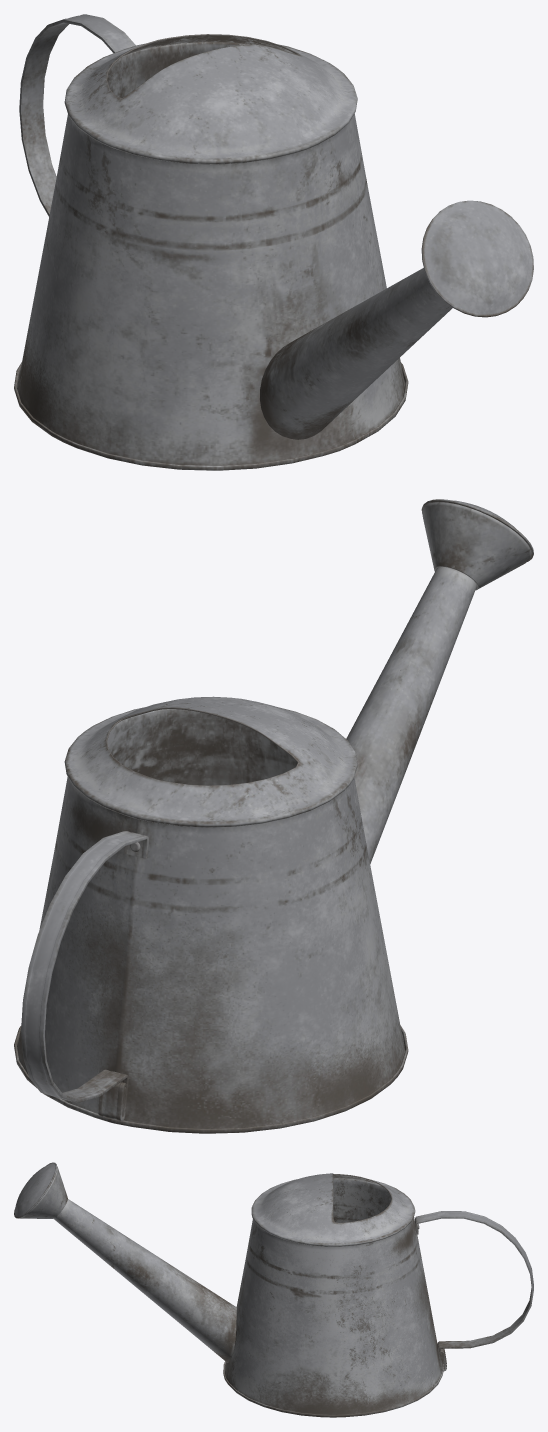
File: watering_can_metal_01_2k.fbx
3 renders of one model, top to bottom at view 1: azimuth 30°, elevation 25°; view 2: azimuth 150°, elevation 25°; view 3: azimuth 270°, elevation 25°, orthographic. The views are drawn at different scales.
Visible parts, largest first — view 1: watering_can_metal_01; view 2: watering_can_metal_01; view 3: watering_can_metal_01.
Boxes of the visible parts, x1=… form: watering_can_metal_01: x1=14, y1=14, x2=533, y2=470; watering_can_metal_01: x1=14, y1=499, x2=533, y2=1133; watering_can_metal_01: x1=14, y1=1162, x2=533, y2=1417.
Size of the model in its own units: 19.1 by 19.68 by 45.23.
Materials: 1 (1 with a texture image).
